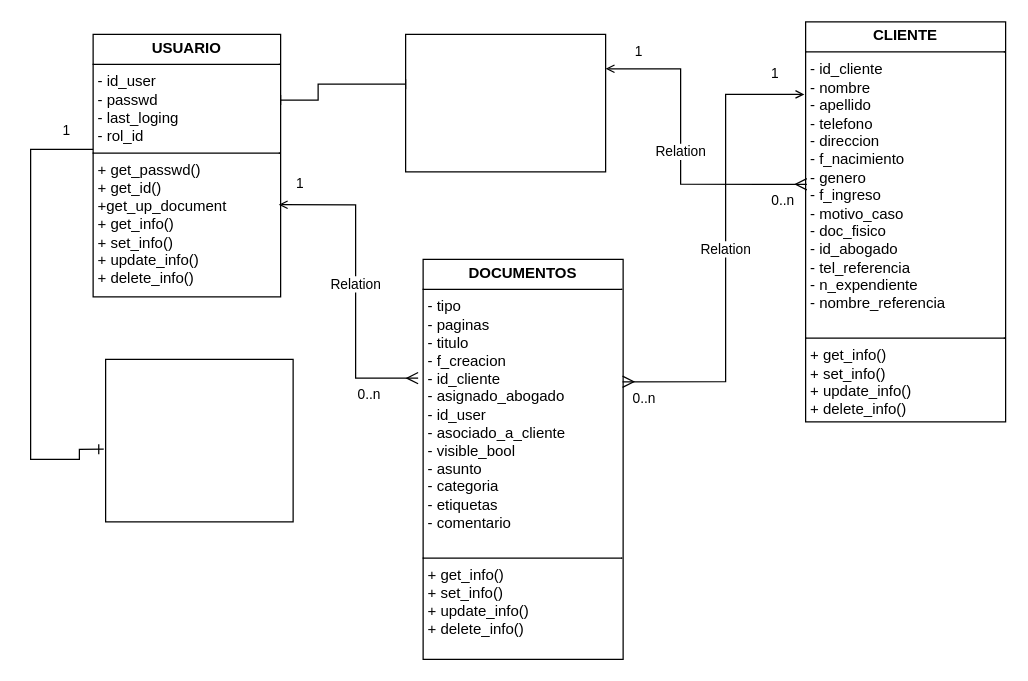
The diagram is 1028 pixels wide and 681 high, and some of its shapes have lost their labels. The shapes that lost their labels are listed below. From the top down, each one's centre as x and y in pixels, then its label:
point 505,102: ABOGADO - id_user + casos_totales() + casos_finalizados() +casos_pendientes()
point 198,440: ROL - id_user - admin - abogado - visualizador + get_info()
